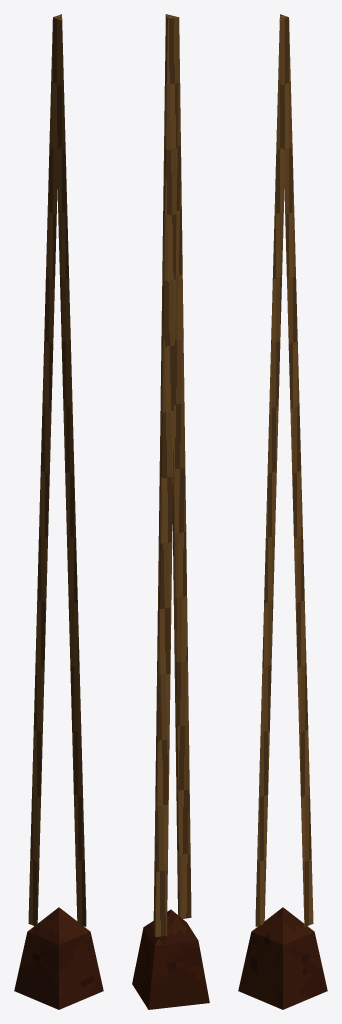
The model's file is honda.glb.
The picture shows the model from 3 angles, left to right: view 1: azimuth 90°, elevation 25°; view 2: azimuth 150°, elevation 25°; view 3: azimuth 270°, elevation 25°; orthographic projection.
Parts seen in each view (by area): view 1: cuerdas, bolsa; view 2: cuerdas, bolsa; view 3: cuerdas, bolsa.
Boxes of the visible parts, bbox=[...] form: cuerdas: bbox=[28, 14, 86, 926]; bolsa: bbox=[14, 907, 103, 1009]; cuerdas: bbox=[153, 14, 191, 937]; bolsa: bbox=[132, 909, 209, 1009]; cuerdas: bbox=[255, 14, 313, 926]; bolsa: bbox=[238, 907, 327, 1009].
Size of the model in its own units: 0.05 by 0.6 by 0.05.
1 material, 1 textured.
